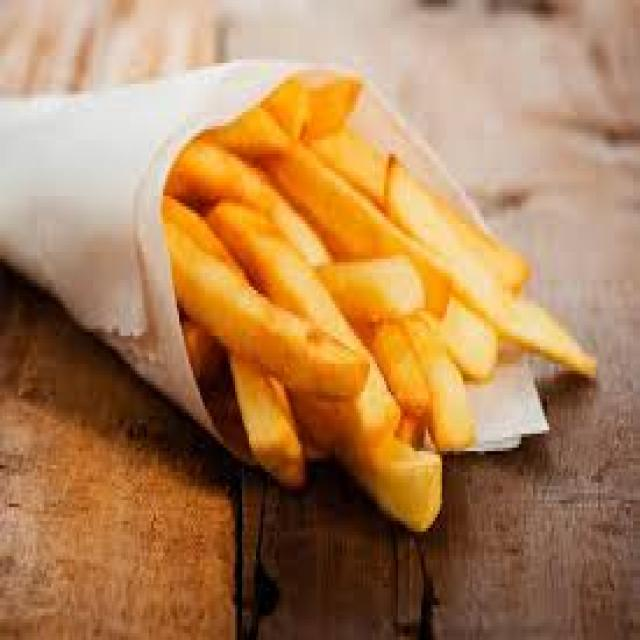Fries: (2, 61, 570, 508)
